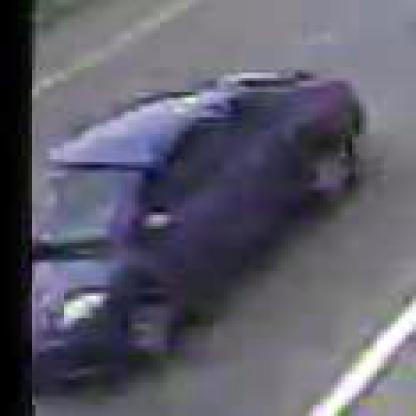car: (29, 71, 378, 409)
